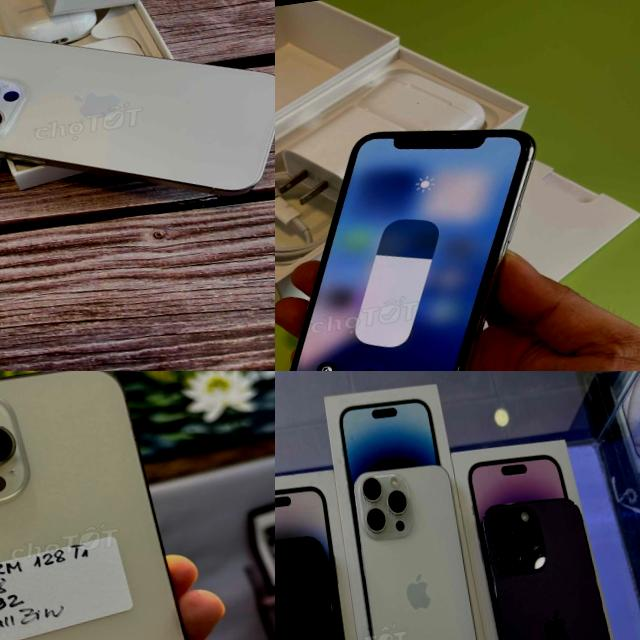gen_14: (0, 371, 219, 640), (340, 456, 499, 640), (474, 472, 640, 640), (275, 525, 368, 640)
gen_15: (0, 0, 275, 247)
gen_x_xs: (290, 117, 533, 371)
